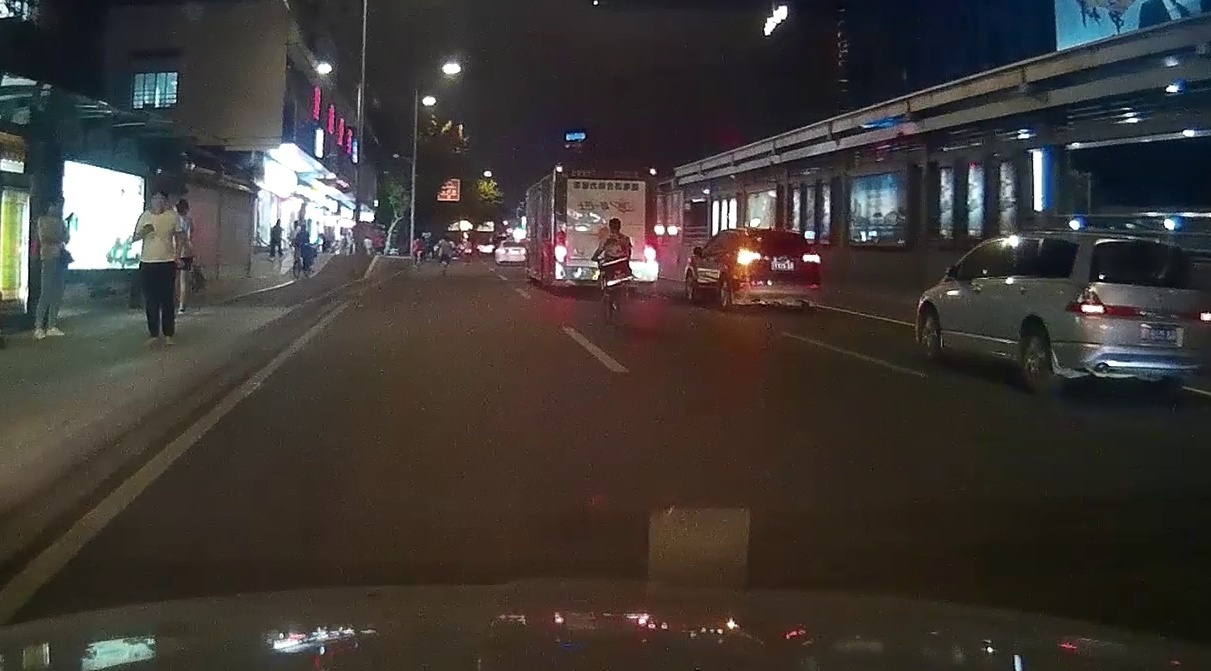L_light: (1064, 284, 1107, 317), (554, 229, 569, 264), (737, 248, 761, 266)
R_light: (1187, 302, 1211, 328), (643, 232, 659, 265), (801, 247, 821, 264)
T_light: (1135, 238, 1159, 246), (595, 170, 615, 178), (769, 231, 788, 237)
night-left: (733, 229, 823, 309)
night-no: (1060, 235, 1211, 398), (550, 160, 661, 290)
